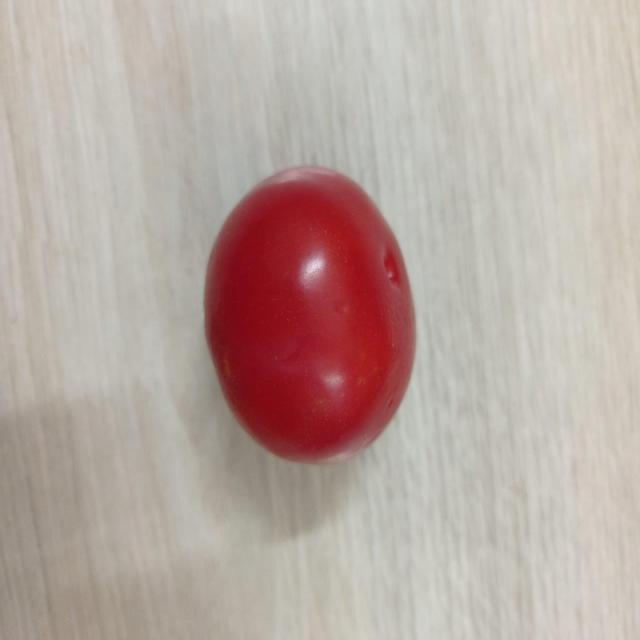Ripe: (201, 162, 420, 465)
